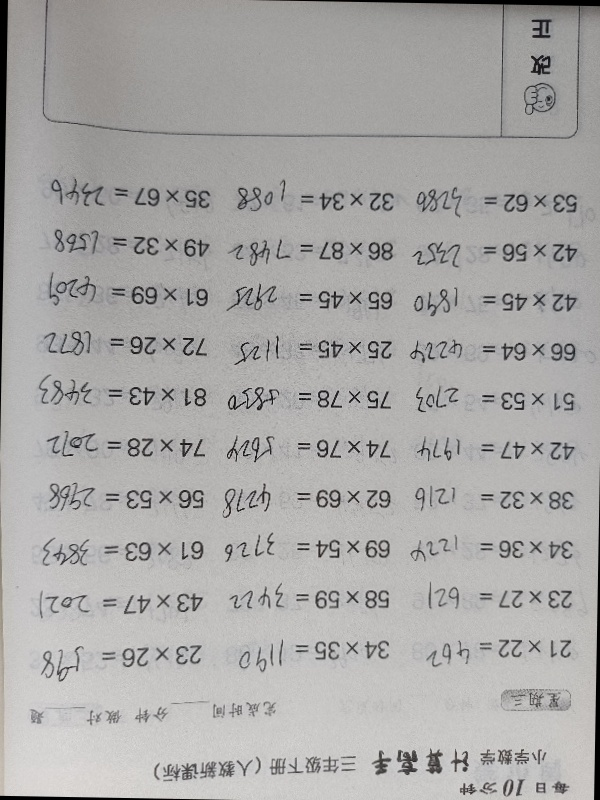equation: (218, 628, 398, 674), (39, 176, 219, 218), (32, 422, 212, 464), (218, 574, 398, 616), (400, 630, 580, 669), (220, 282, 400, 317), (32, 481, 212, 516), (32, 533, 212, 568), (31, 585, 211, 620), (30, 638, 210, 673), (404, 185, 584, 219), (405, 234, 585, 268), (38, 229, 218, 263), (221, 233, 401, 267), (37, 278, 217, 312), (403, 333, 583, 367), (36, 328, 216, 362), (401, 382, 581, 416), (218, 380, 398, 414), (34, 378, 214, 412), (218, 430, 398, 464), (400, 482, 580, 516), (218, 480, 398, 514), (399, 530, 579, 564), (218, 530, 398, 564), (400, 580, 580, 614), (222, 183, 401, 217), (404, 284, 584, 317), (219, 331, 399, 364), (401, 433, 581, 466)
